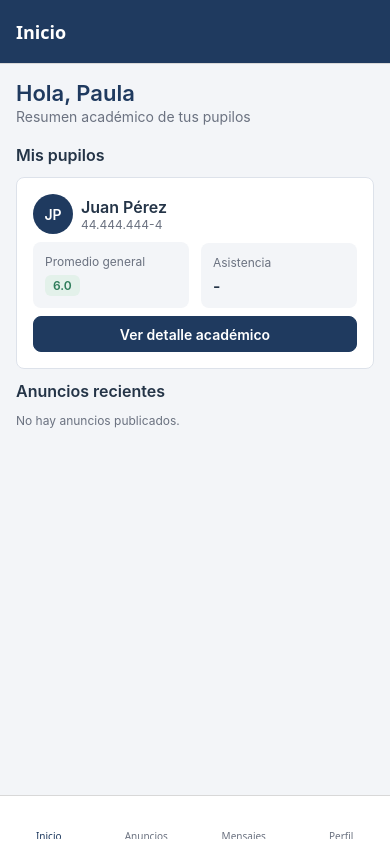
Test: App › muestra el inicio del apoderado y navega entre pestañas
Expected: the text "Hola, Paula" is shown, [16,80,135,106]
Expected: the text "Juan Pérez" is shown, [81,196,167,216]
What coordinates should you click on to do the following:
click the tab "Anuncios"
I would click on:
 (146, 836)
Its box is [125,829,168,843].
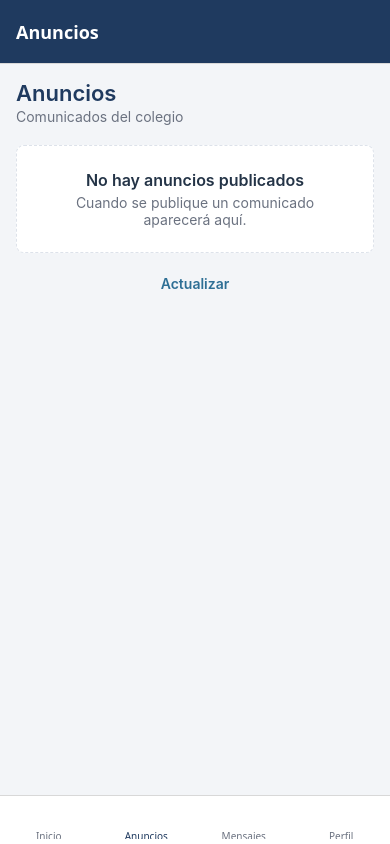
Result: the text "Comunicados del colegio" is shown at [16,108,184,125]
What coordinates should you click on to do the following:
click the tab "Mensajes"
I would click on:
 (244, 836)
Its box is [222,829,266,843].
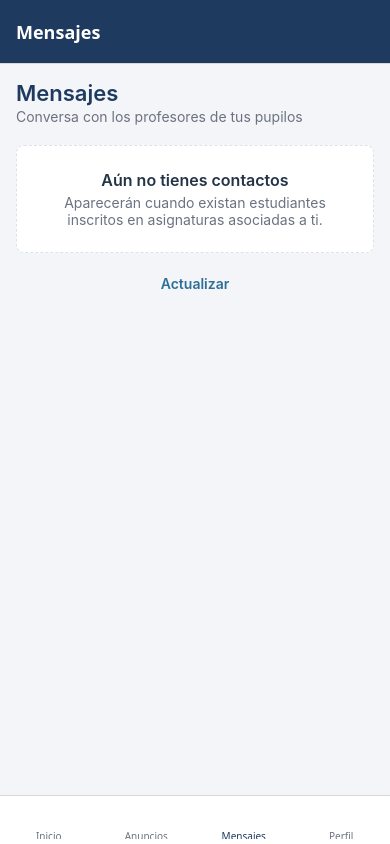
Result: the text "Conversa con los profesores de tus pupilos" is shown at [16,108,303,125]
What coordinates should you click on to do the following:
click the tab "Perfil"
I would click on:
 (341, 836)
Its box is [329,829,353,843].
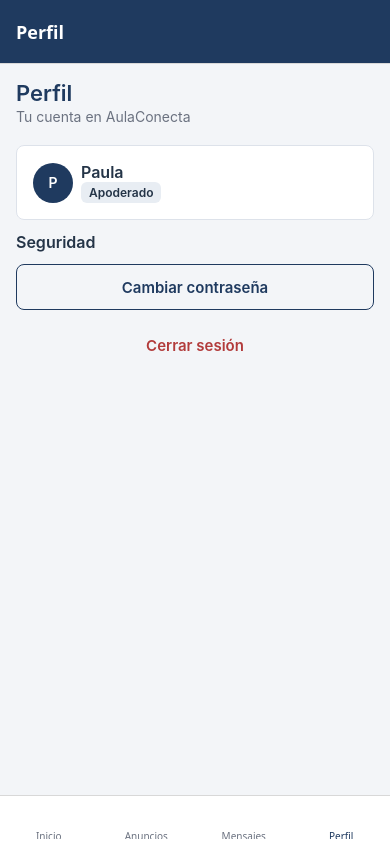
Result: the text "Tu cuenta en AulaConecta" is shown at [16,108,190,125]
What coordinates should you click on to do the following:
click the text "Cambiar contraseña"
I would click on:
 (195, 287)
Its box is [122,278,268,296].
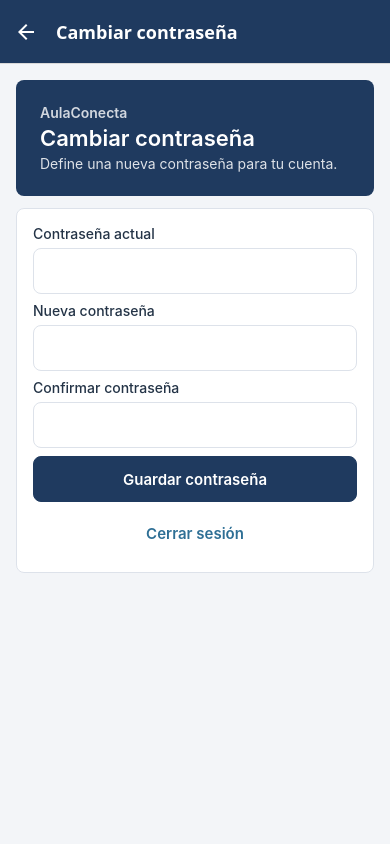
Result: the heading "Cambiar contraseña" is shown at [56,20,238,44]
